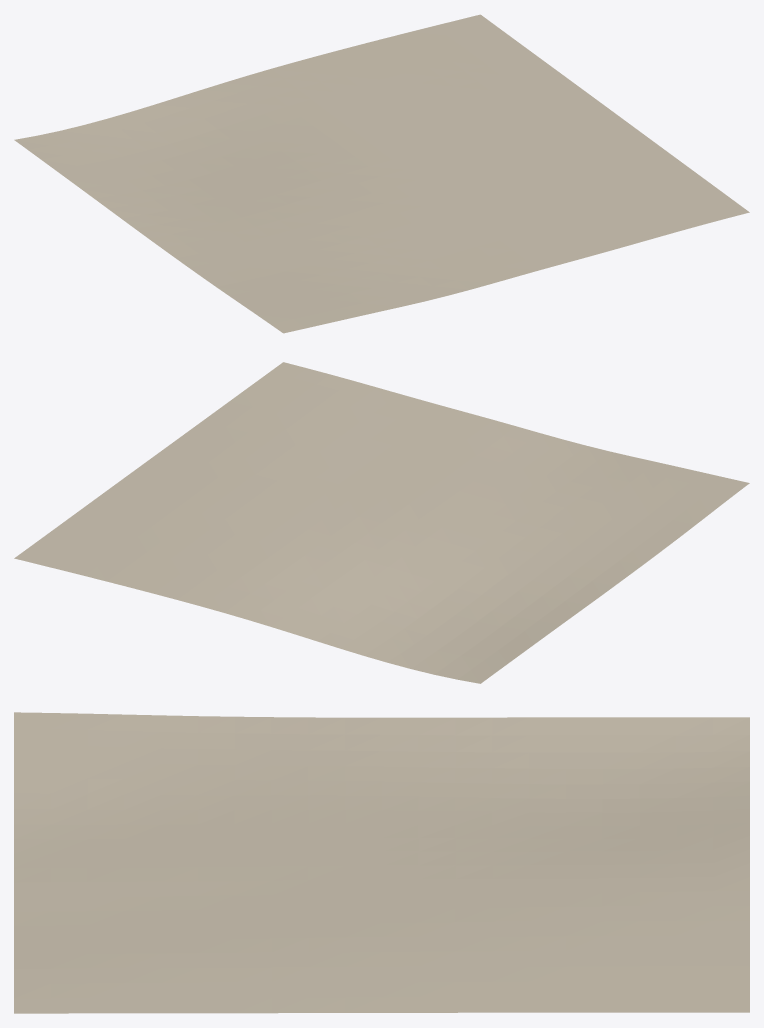
File: bolak_9_6.glb
The picture shows the model from 3 angles, top to bottom: view 1: azimuth 30°, elevation 25°; view 2: azimuth 150°, elevation 25°; view 3: azimuth 270°, elevation 25°; orthographic projection. The views are drawn at different scales.
Visible parts, largest first — view 1: Yer_Tuproq-col; view 2: Yer_Tuproq-col; view 3: Yer_Tuproq-col.
Boxes of the visible parts, <box> form: Yer_Tuproq-col: <box>14,14,749,333</box>; Yer_Tuproq-col: <box>14,362,749,683</box>; Yer_Tuproq-col: <box>14,712,749,1013</box>.
Bounding box in the file's own units: 400 × 12.54 × 400.
